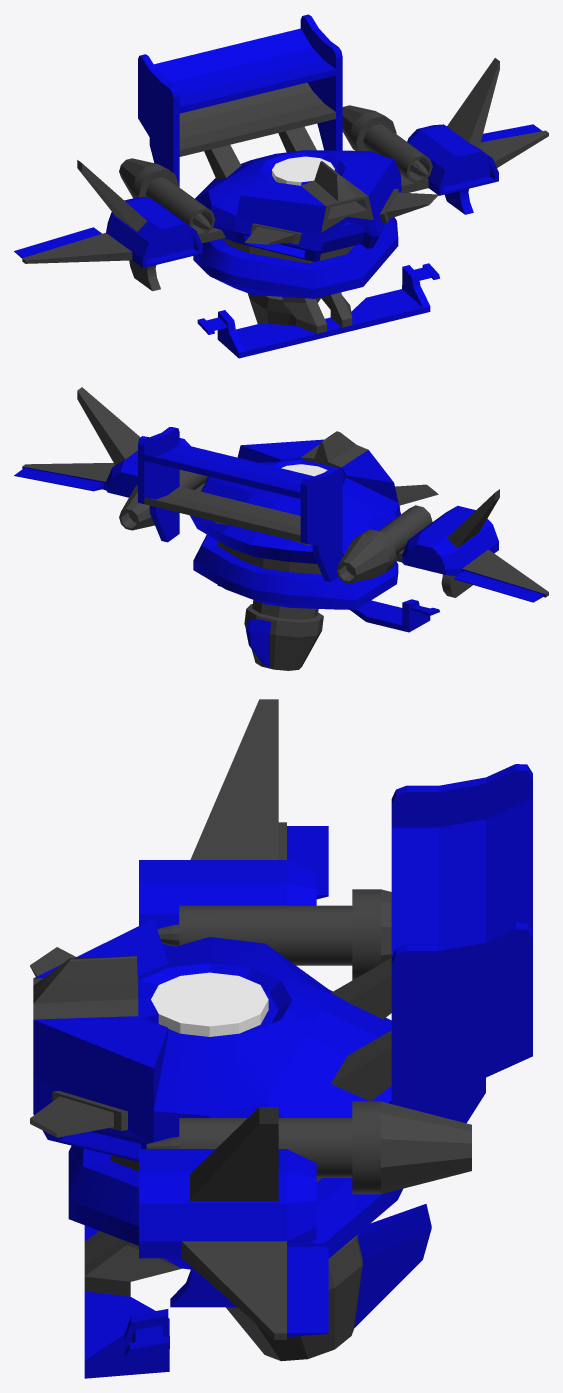
File: robot04_body.fbx
3 renders of one model, top to bottom at view 1: azimuth 30°, elevation 25°; view 2: azimuth 150°, elevation 25°; view 3: azimuth 270°, elevation 25°, orthographic. The views are drawn at different scales.
Visible parts, largest first — view 1: robot4_body; view 2: robot4_body; view 3: robot4_body.
Part boxes in pixels (box(x1,y1,x2,y2)): robot4_body: box(14, 14, 548, 358); robot4_body: box(14, 387, 548, 670); robot4_body: box(30, 699, 532, 1378).
Bounding box in the file's own units: 175 × 79.96 × 72.65.
